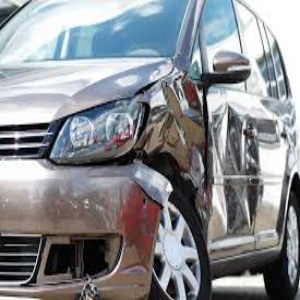bumper: (98, 162, 168, 298)
